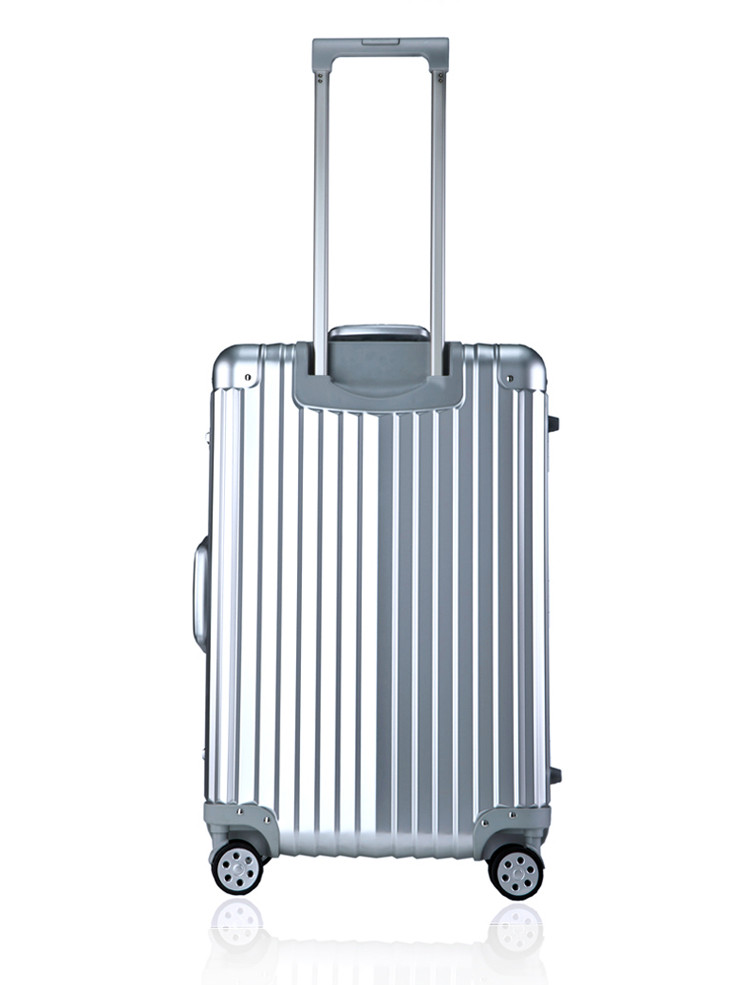luggage: (191, 35, 563, 897)
